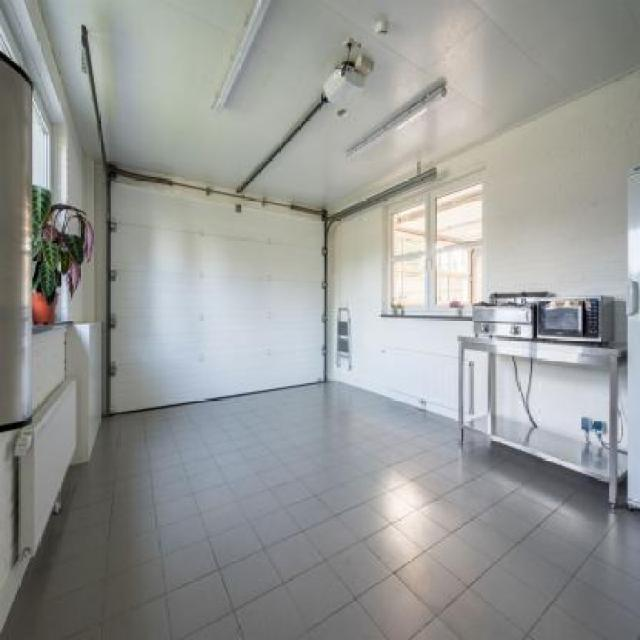floor: (4, 379, 640, 640)
